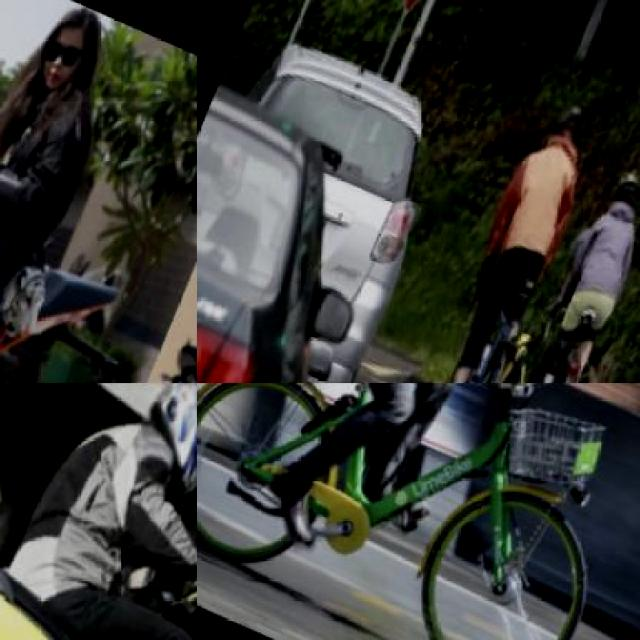With Helmet: (108, 383, 195, 517), (532, 88, 599, 161), (590, 158, 638, 230)
Without Helmet: (8, 0, 122, 123)
